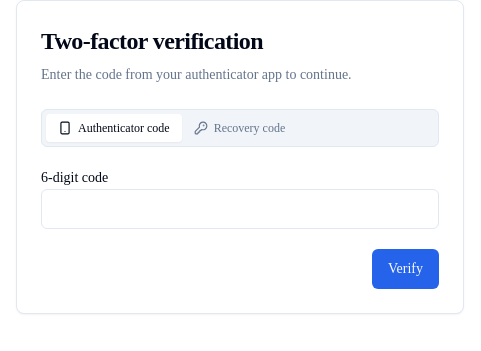
MfaChallenge › shows validation error when code is too short
The image size is (481, 351).
Type "12" into the field with test id "mfa-challenge-input".
click(240, 209); type("12")  # box top-left (41, 189), bottom-right (439, 229)
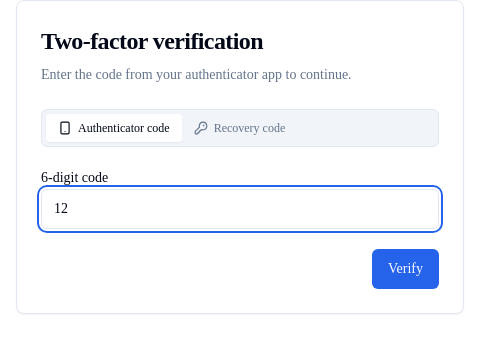
Click the button with test id "mfa-challenge-submit".
click(406, 269)  # box top-left (372, 249), bottom-right (439, 289)
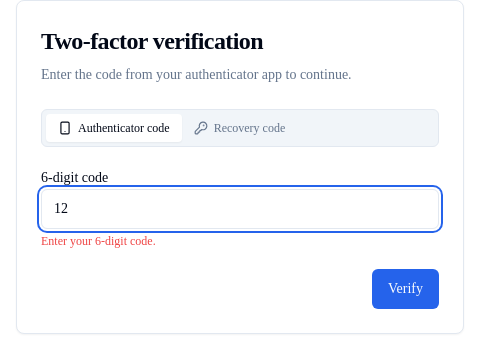
Now the text with test id "mfa-challenge-error" shows "6-digit", box top-left (41, 234), bottom-right (156, 248)
